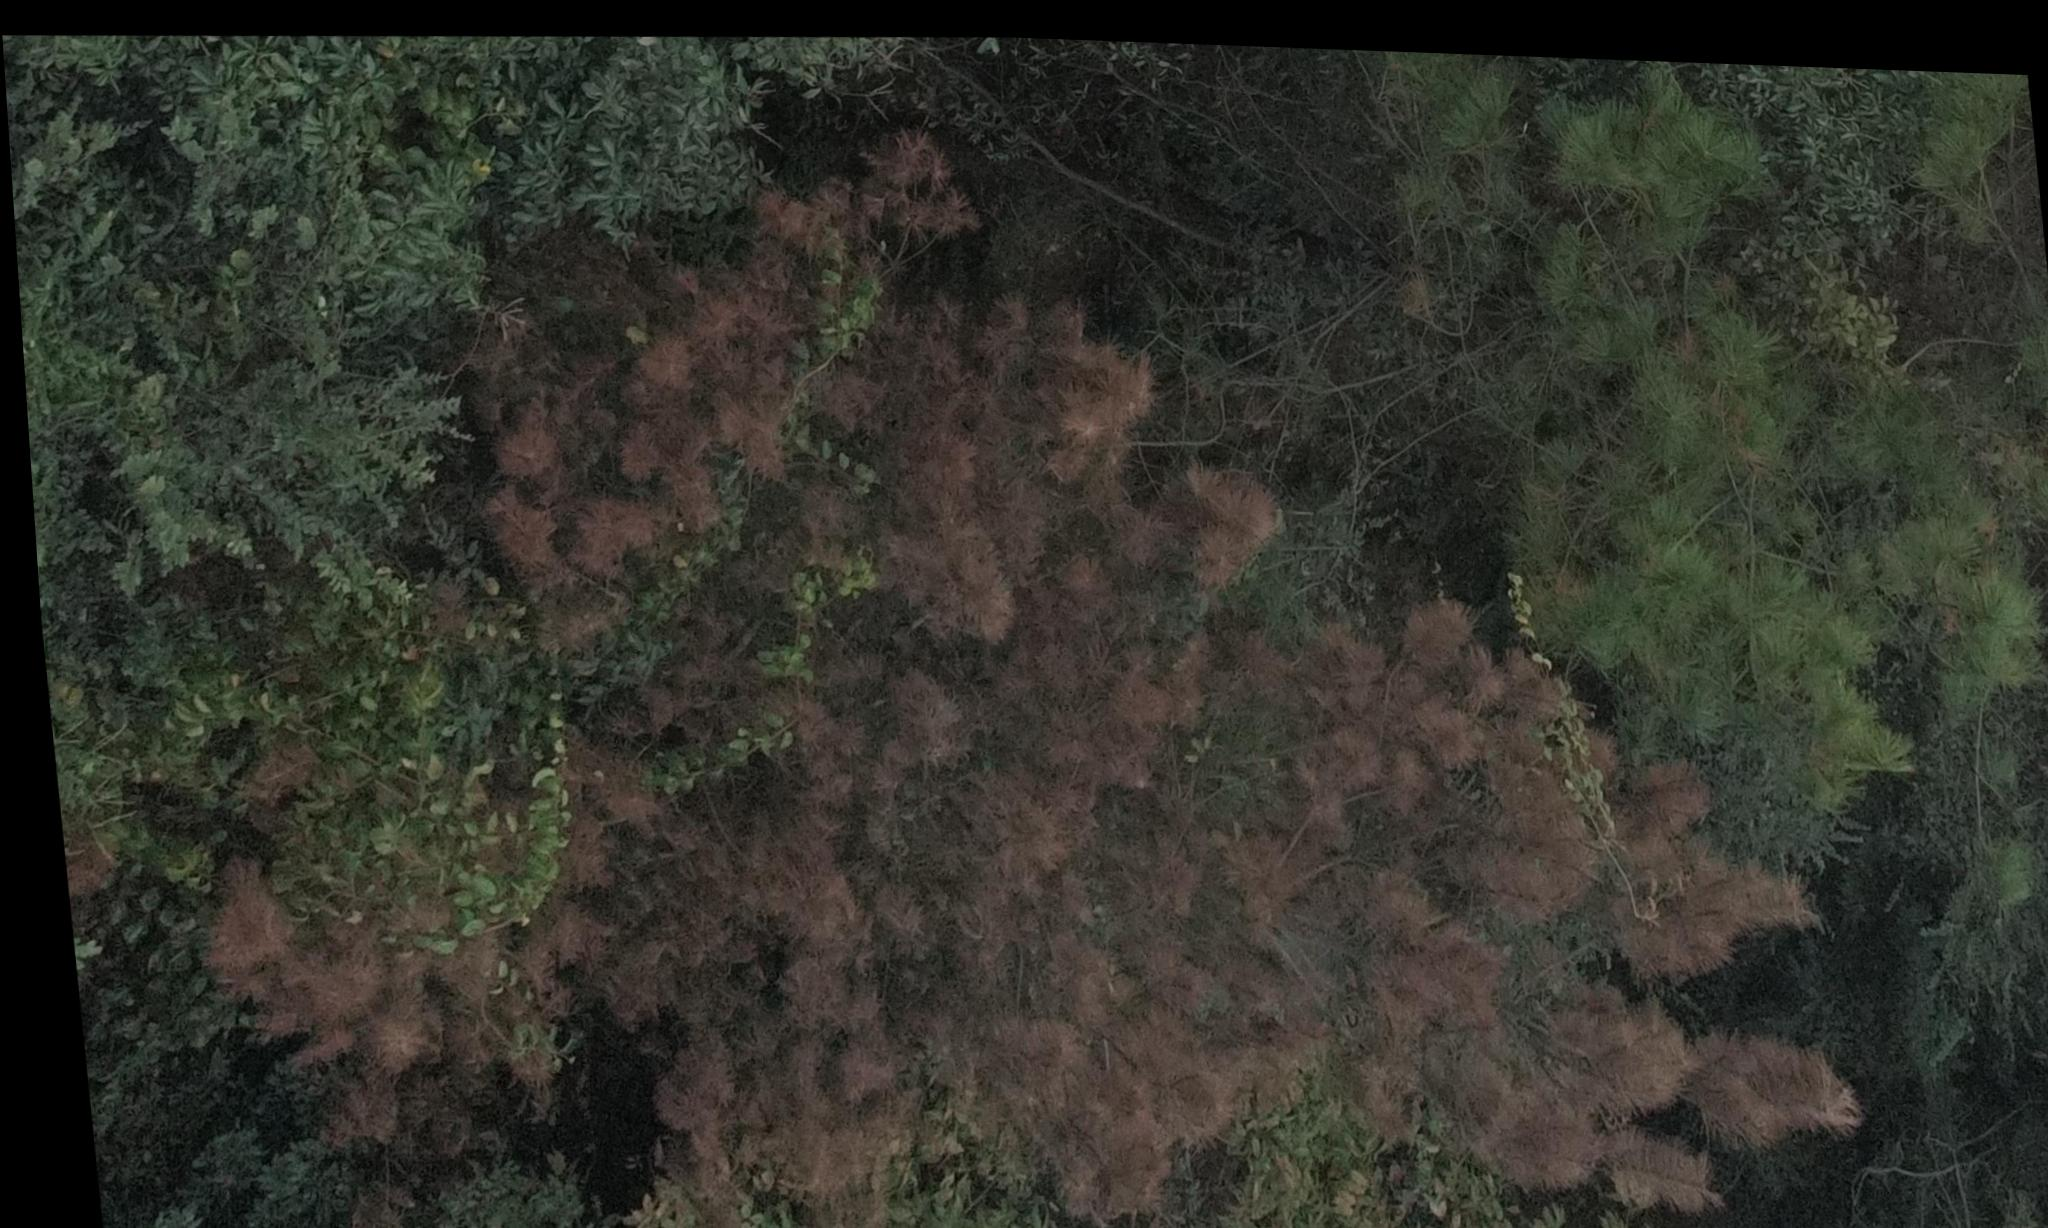heavy: (455, 114, 1316, 1228), (1302, 579, 1849, 1227), (172, 814, 519, 1196)
